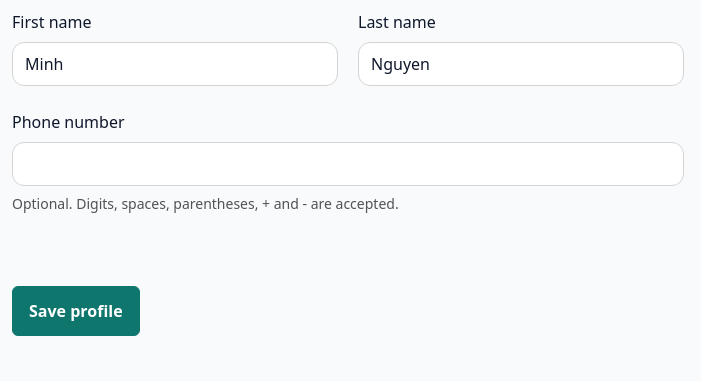
Test: profile form › blocks invalid input and preserves edits after a failed update
The image size is (701, 381).
Replace the text in the field labelled "First name" with "<invalid>" at (175,64), box [12,42,338,86]
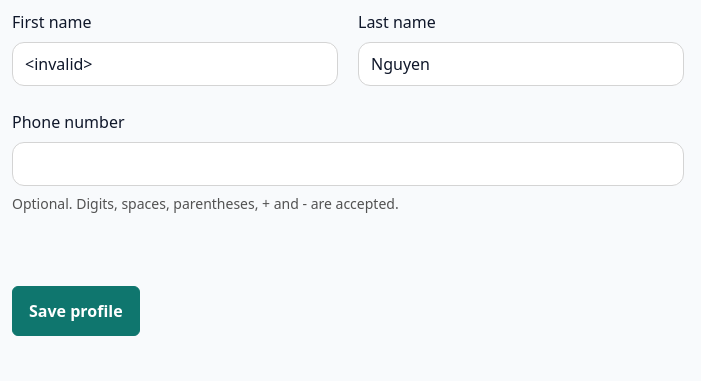
Click the button "Save profile" at (76,311), box [12,286,140,336]
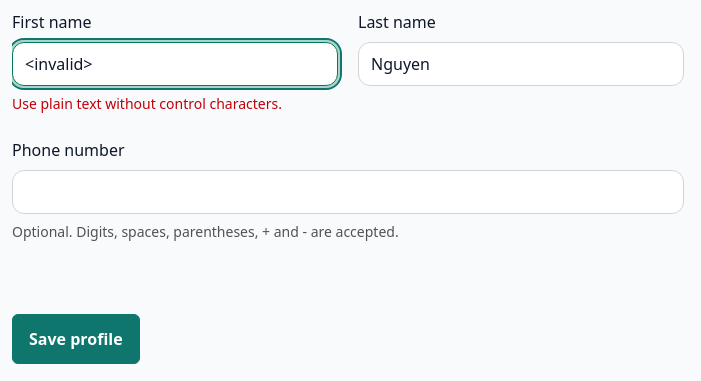
Now the text "Use plain text without control characters." is shown, box [12,94,282,113]
Replace the text in the field labelled "First name" with "Edited" at (175,64), box [12,42,338,86]
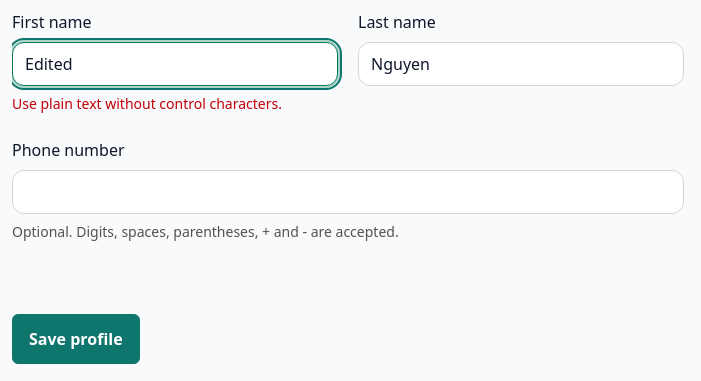
Click the button "Save profile" at (76,339), box [12,314,140,364]
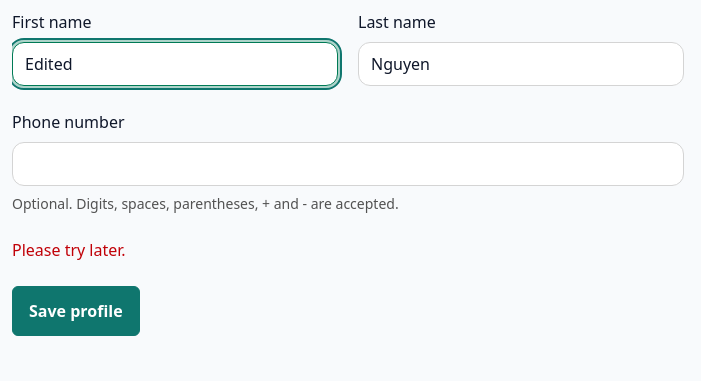
Now the text "Please try later." is shown, box [12,239,126,261]
